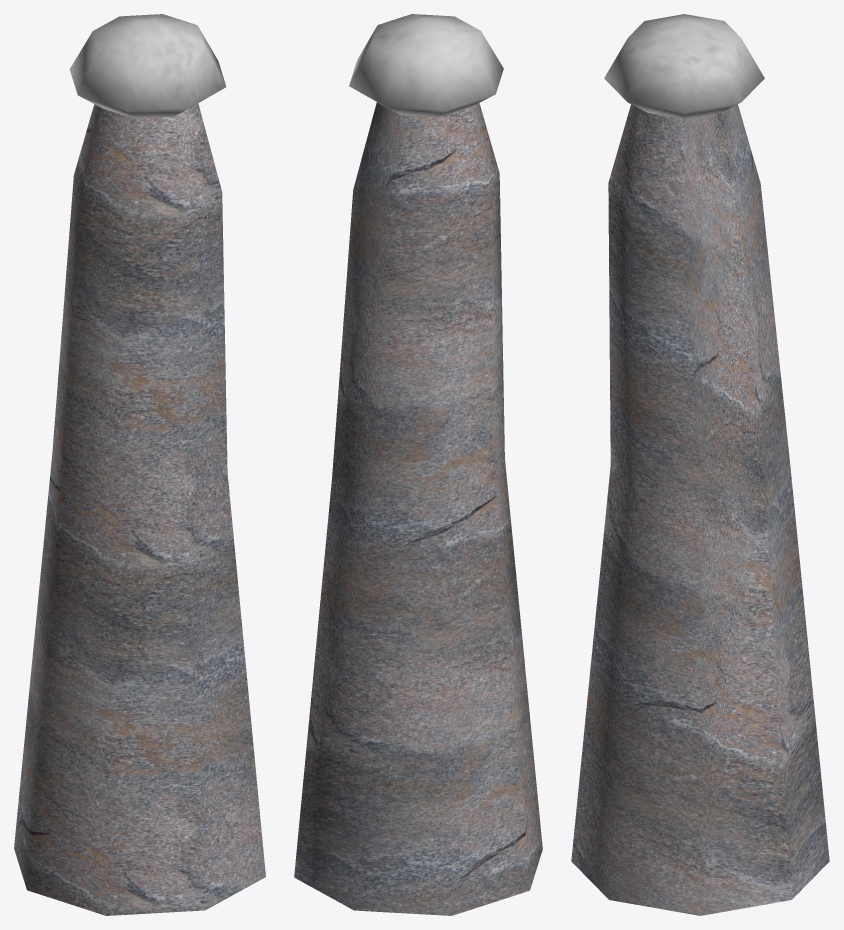
The model's file is pillard_LOD70.glb.
3 renders of one model, left to right at view 1: azimuth 30°, elevation 25°; view 2: azimuth 150°, elevation 25°; view 3: azimuth 270°, elevation 25°, orthographic.
Visible parts, largest first — view 1: rock_mountain.jpg__, snowroad.jpg__; view 2: rock_mountain.jpg__, snowroad.jpg__; view 3: rock_mountain.jpg__, snowroad.jpg__.
Boxes of the visible parts, x1,y1,x2,y2 form: rock_mountain.jpg__: (14, 103, 265, 915); snowroad.jpg__: (69, 14, 226, 118); rock_mountain.jpg__: (294, 102, 542, 915); snowroad.jpg__: (349, 14, 503, 117); rock_mountain.jpg__: (571, 104, 829, 915); snowroad.jpg__: (604, 14, 764, 119).
Size of the model in its own units: 3.21 by 11.51 by 3.21.
2 materials, 2 textured.
